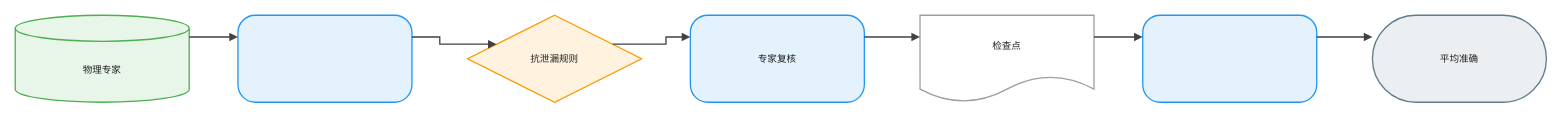
This 1563x118 diagram has some shape labels left out. Here are the shapes that lost their labels. From the top down, the centre of each, then its label:
point 324,58: 研究任务
point 1229,58: 答案解析
